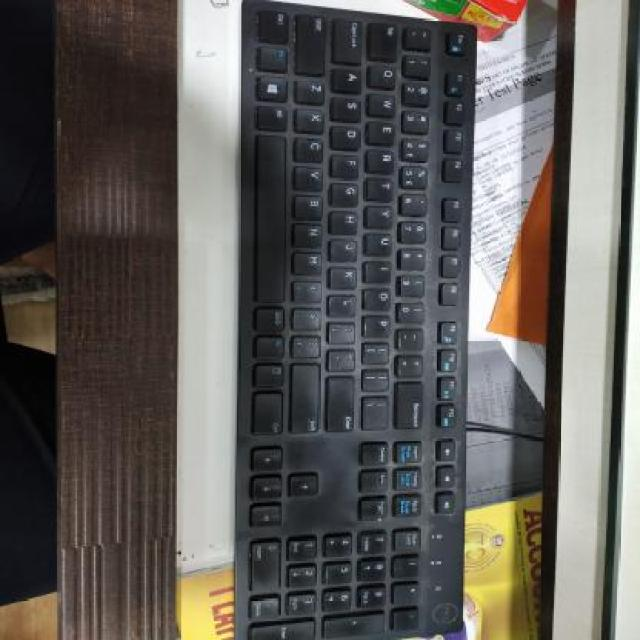keyboard: (231, 0, 480, 640)
